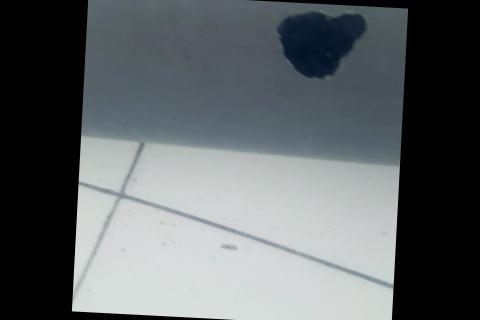kebocoran: (271, 5, 371, 83)
